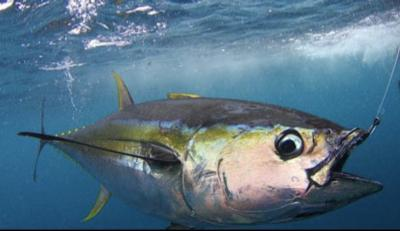Scombridae -Tunas-: (13, 70, 384, 228)
